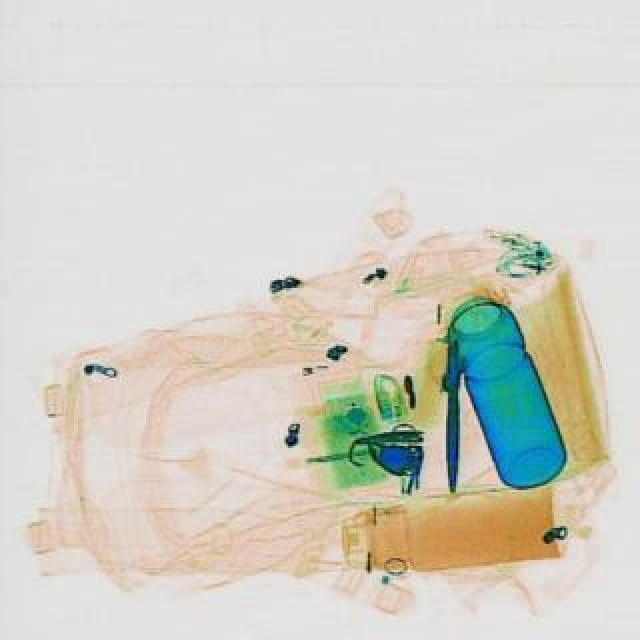knife: (440, 340, 460, 492)
